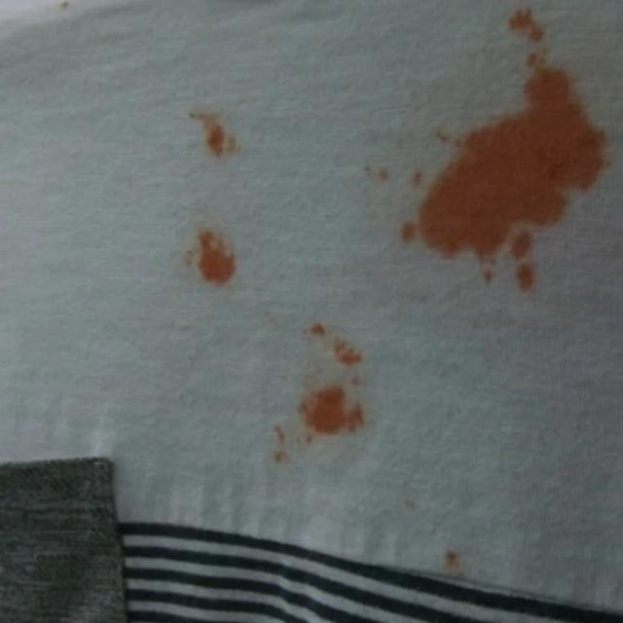kimchi: (360, 5, 615, 294), (259, 320, 395, 468), (164, 219, 247, 311), (185, 94, 242, 174), (422, 536, 473, 573), (390, 491, 434, 520)
